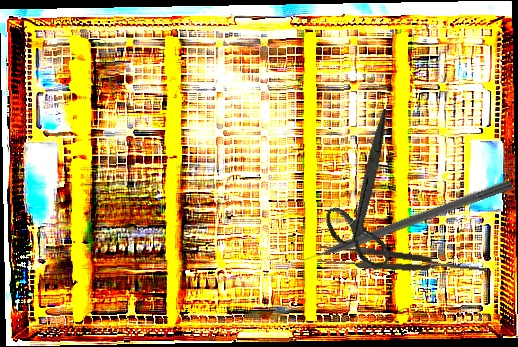Iris Scissors: (294, 108, 441, 280)
Pusher: (287, 177, 514, 270)
Tissue Forceps: (316, 242, 489, 282)
